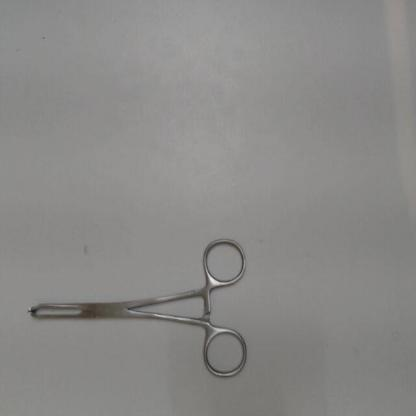Allis Tissue Forceps: (20, 229, 252, 386)
